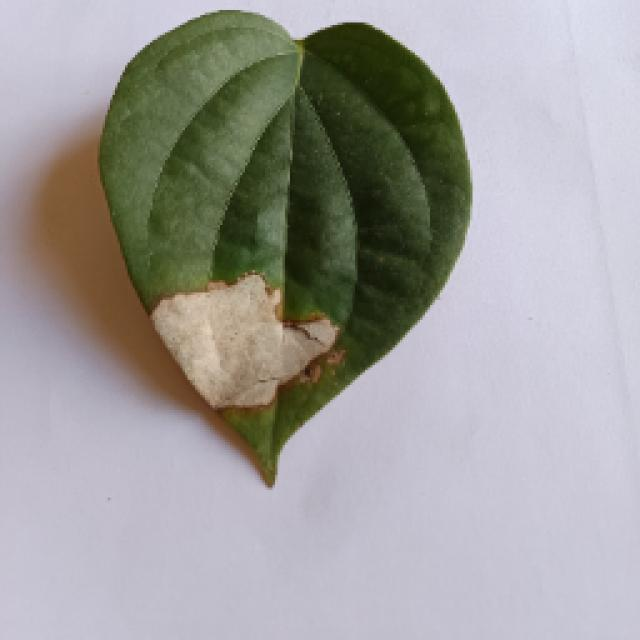footrot: (78, 8, 480, 482)
